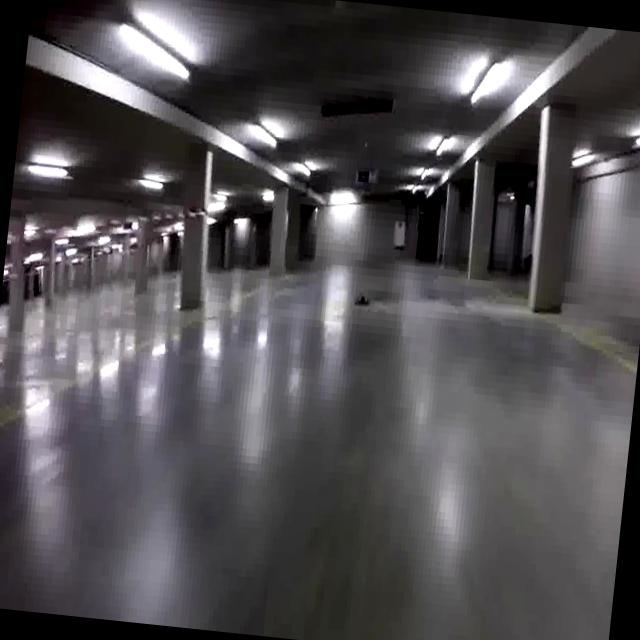drone: (349, 288, 372, 312)
